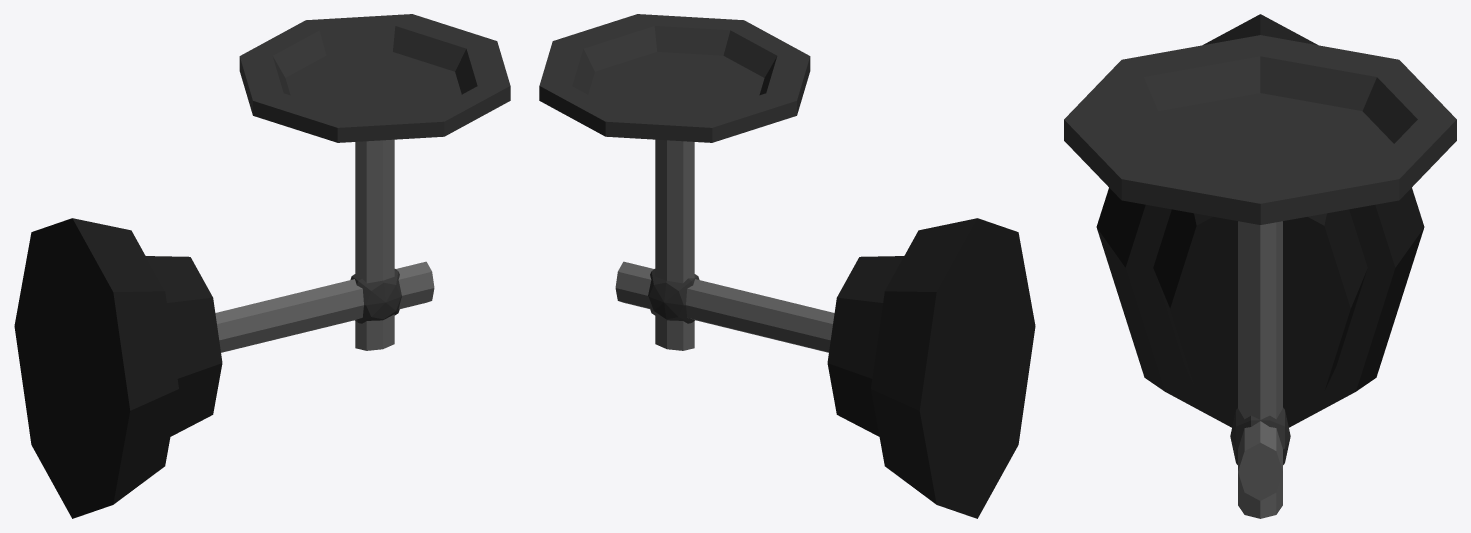
File: Şamdan.fbx
3 renders of one model, left to right at view 1: azimuth 30°, elevation 25°; view 2: azimuth 150°, elevation 25°; view 3: azimuth 270°, elevation 25°, orthographic. The views are drawn at different scales.
Parts seen in each view (by area): view 1: Circle.001; view 2: Circle.001; view 3: Circle.001.
Boxes of the visible parts, bbox=[...] form: Circle.001: bbox=[14, 14, 510, 518]; Circle.001: bbox=[539, 14, 1035, 518]; Circle.001: bbox=[1064, 14, 1456, 518].
Size of the model in its own units: 67.63 by 56.9 by 38.24.
1 material, 1 textured.
